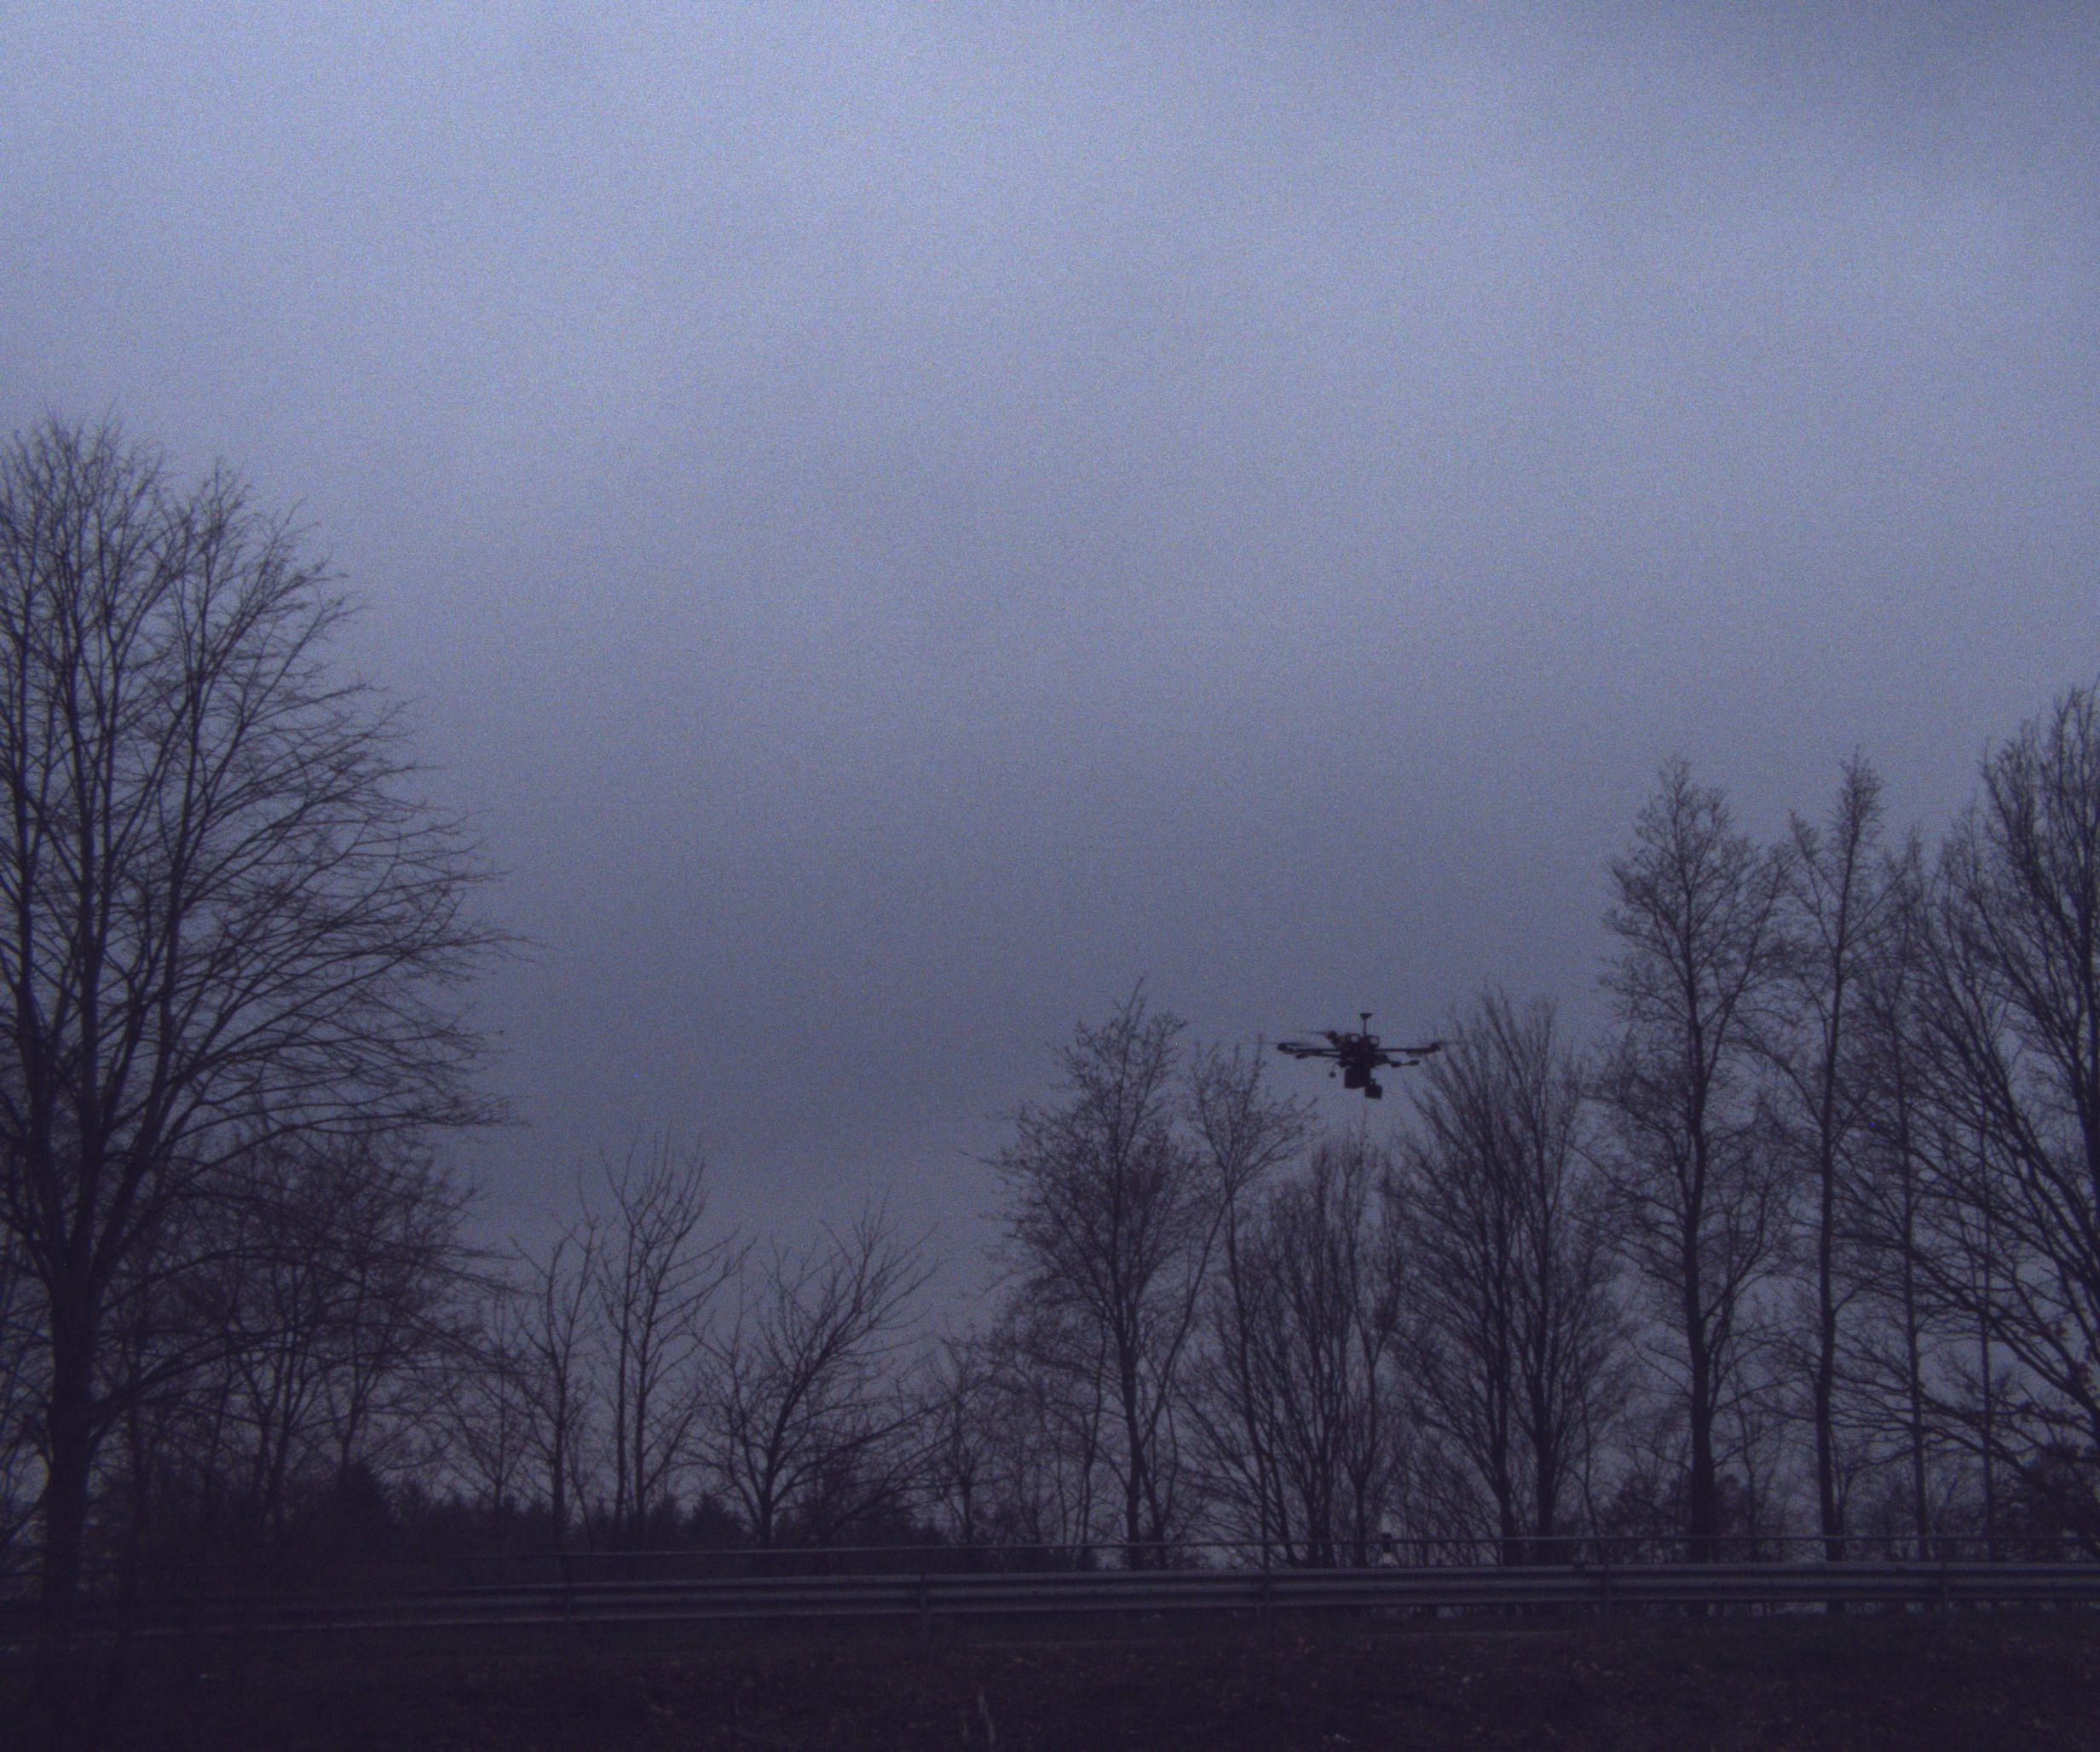Drohne: (1167, 924, 1483, 1110)
